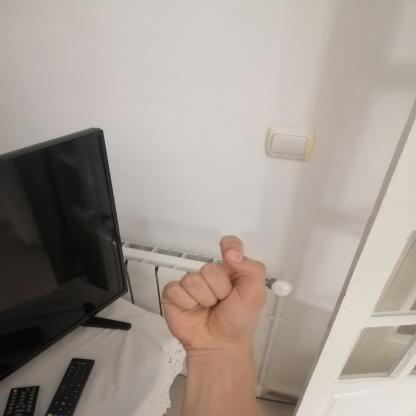FAA: (148, 227, 276, 359)
